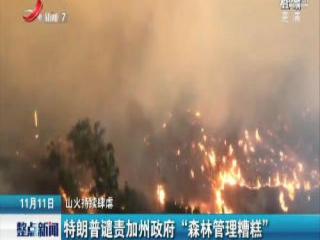fire: (191, 125, 317, 206), (153, 180, 173, 207)
